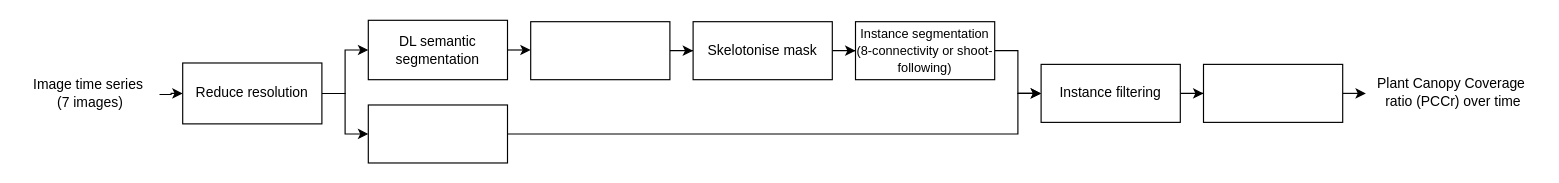
This 1559x183 diagram has some shape labels left out. Here are the shapes that lost their labels. From the top down, the centre of each, then its label:
At (x=600, y=50): "Opening operation (ensure continuous masks)".
At (x=1272, y=92): "Phenotype-to-genotype (sector) mapping".
At (x=437, y=133): "Pot rim identifcation (Circle Hough Transform)".
